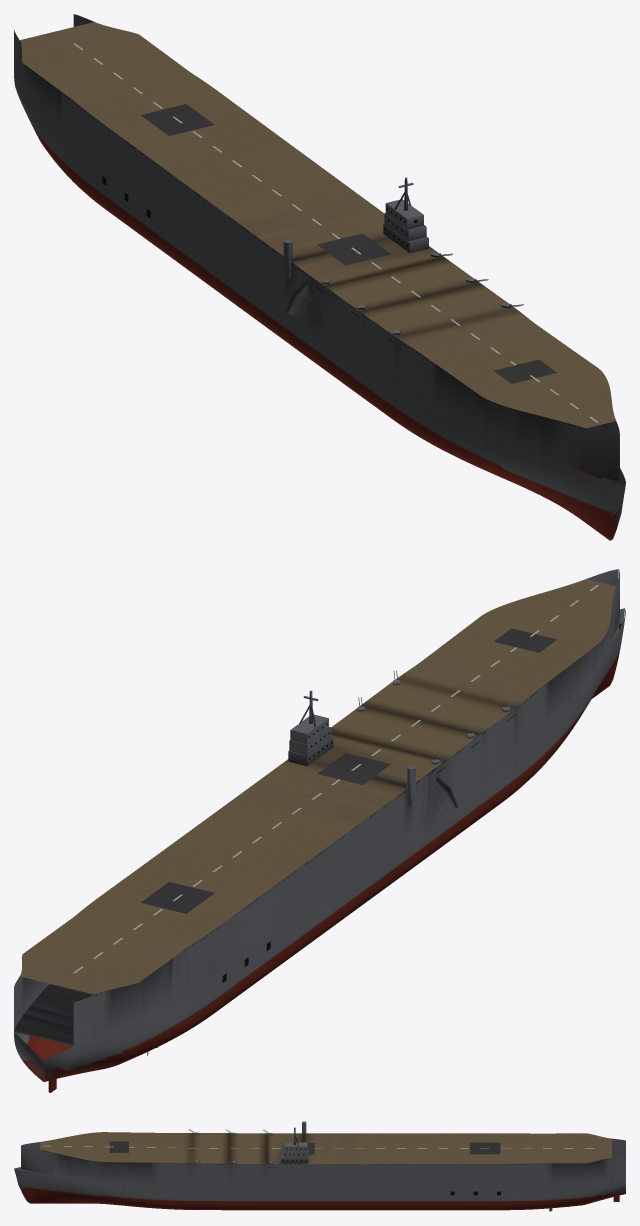
File: model_built.glb
The picture shows the model from 3 angles, top to bottom: view 1: azimuth 30°, elevation 25°; view 2: azimuth 150°, elevation 25°; view 3: azimuth 270°, elevation 25°; orthographic projection. The views are drawn at different scales.
Visible parts, largest first — view 1: main; view 2: main; view 3: main.
Part boxes in pixels (x1,y1,x2,y2): main: (14, 14, 625, 540); main: (14, 569, 625, 1092); main: (14, 1121, 625, 1211).
Size of the model in its own units: 39.67 by 41.81 by 264.
1 material, 1 textured.
